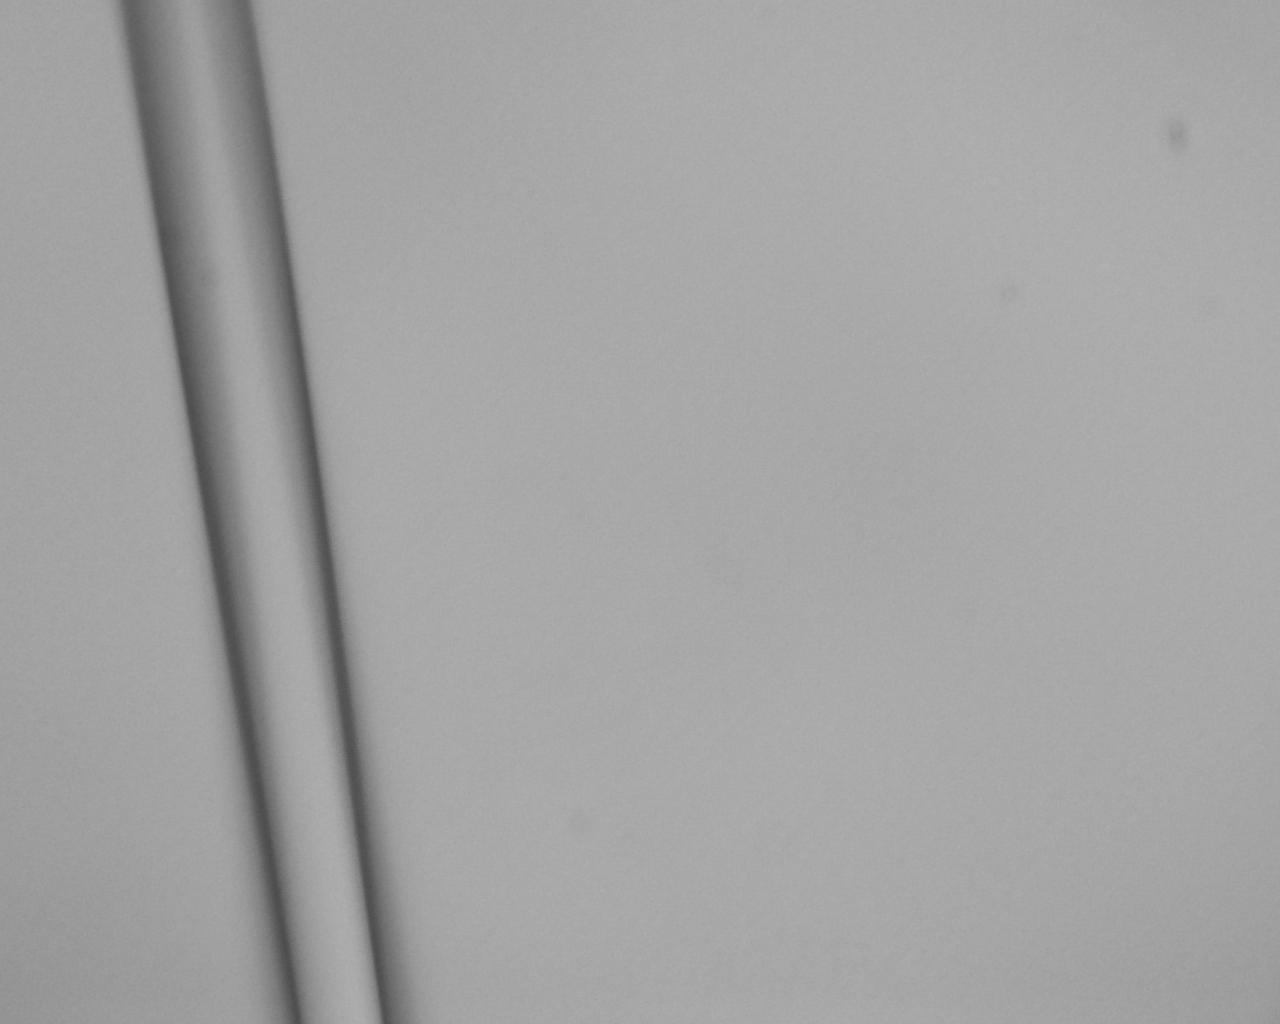fiber: (0, 552, 593, 707), (1077, 0, 1280, 417), (601, 777, 1154, 798)
